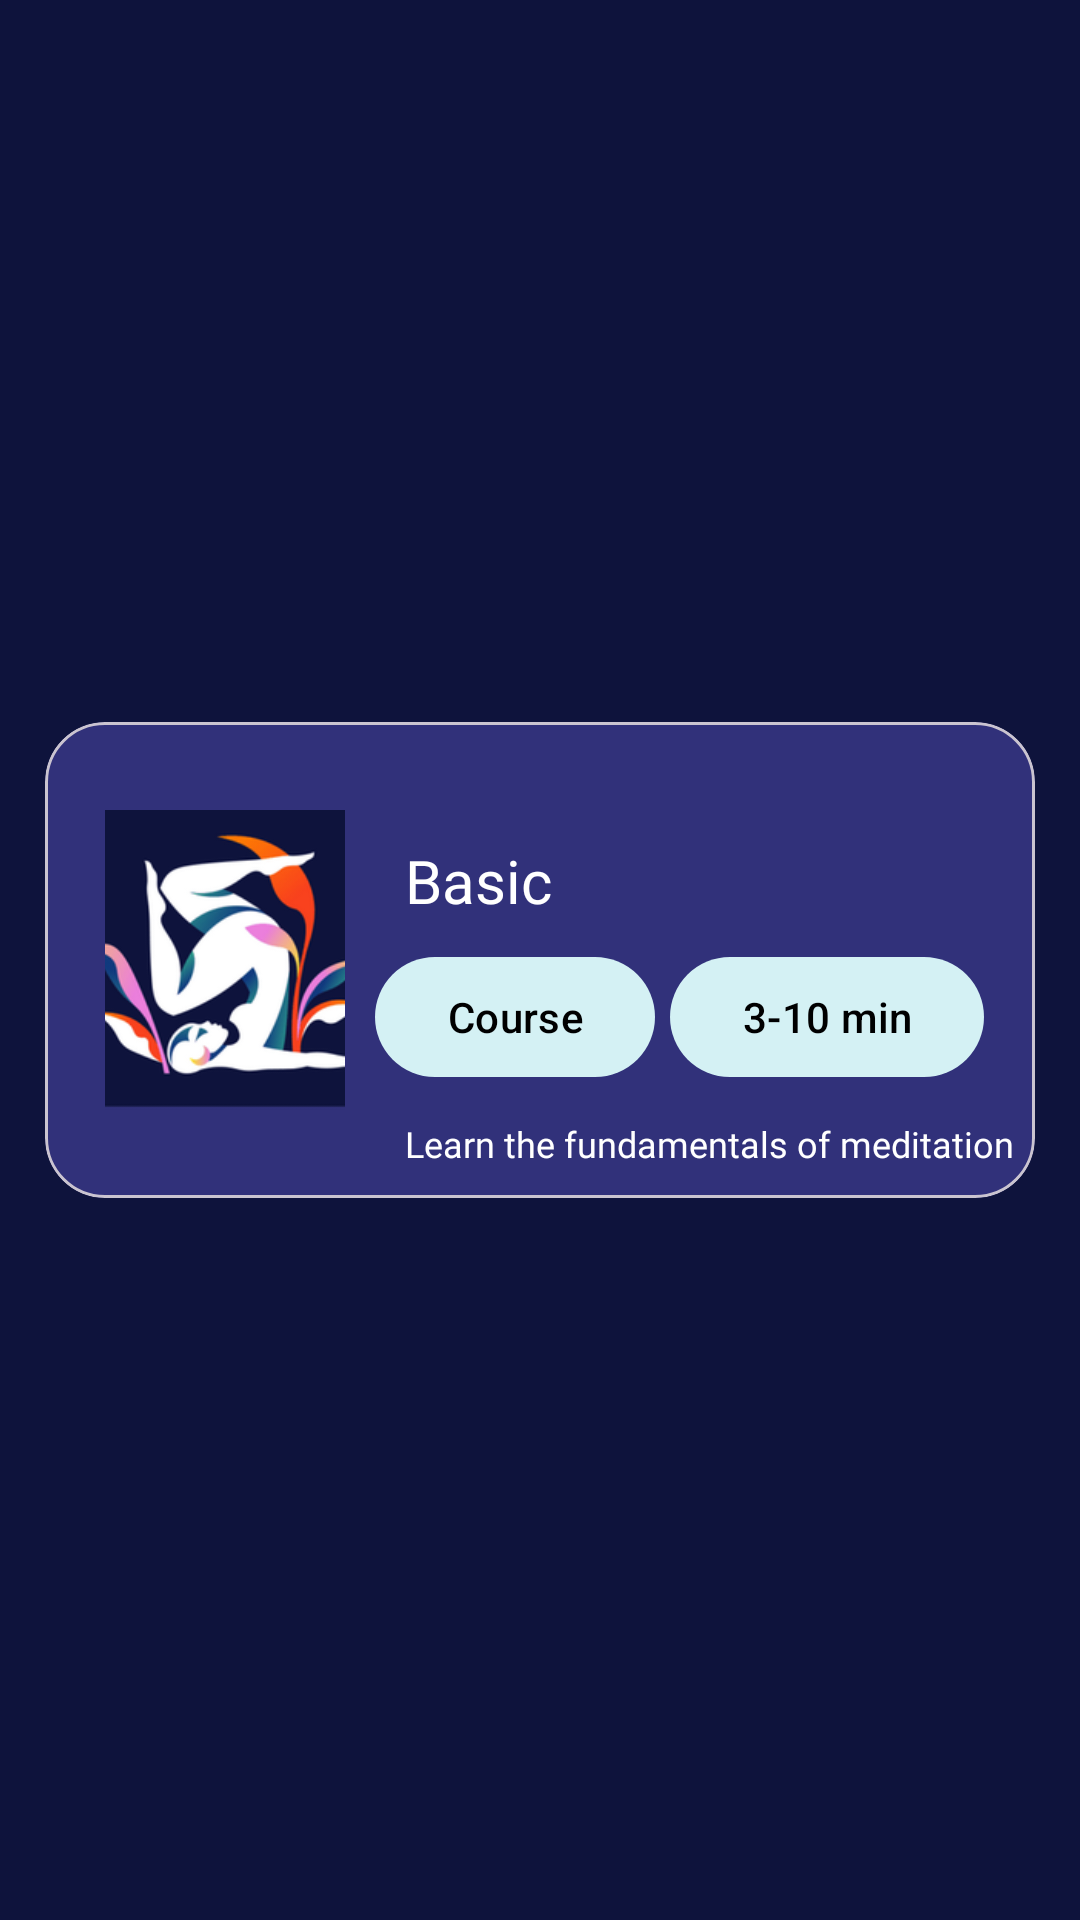

Locate icon controls on the screen. Image size 1080*1920, boxes as (x1, y1, x2, y2).
mind onboard: (105, 810, 345, 1107)
